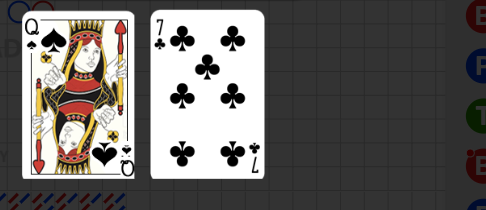7C: (247, 140, 262, 175), (154, 17, 168, 52)
